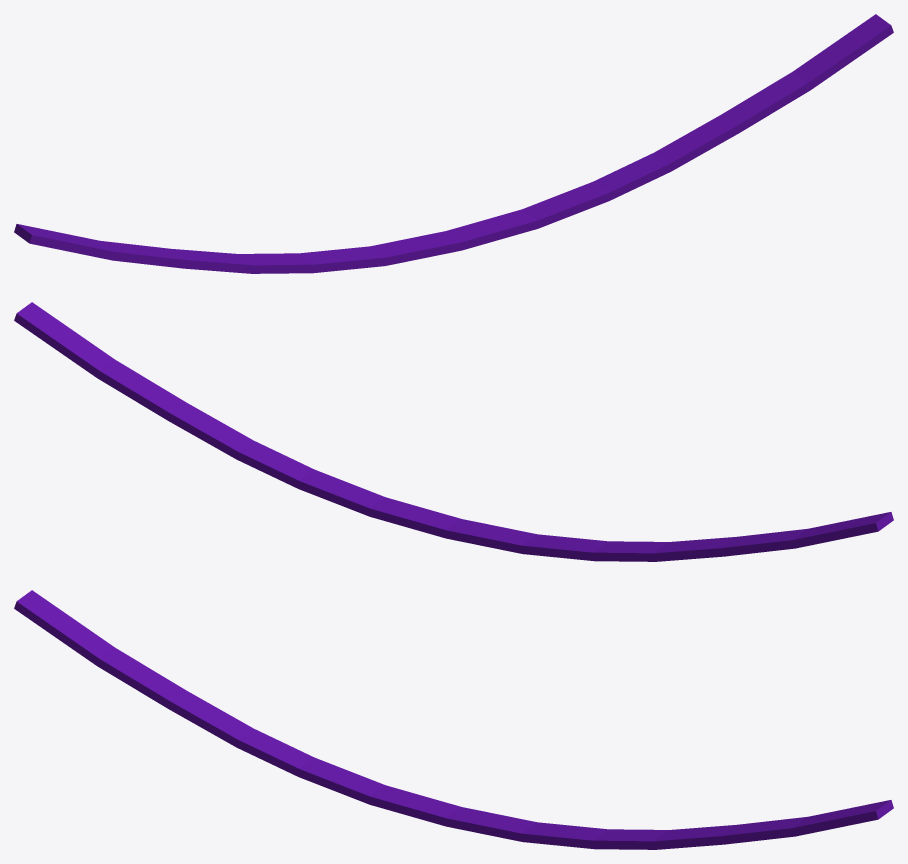
Rendered from Tape_18_chunks.fbx.
3 views of the same model, one above another, from view 1: azimuth 30°, elevation 25°; view 2: azimuth 150°, elevation 25°; view 3: azimuth 330°, elevation 25° (orthographic).
Visible parts, largest first — view 1: Tape_18_0, Tape_18_1, Tape_18_3; view 2: Tape_18_0, Tape_18_1, Tape_18_3; view 3: Tape_18_1, Tape_18_0, Tape_18_3.
Part boxes in pixels (bbox=[...]): Tape_18_0: bbox=[470, 14, 893, 245]; Tape_18_1: bbox=[94, 226, 476, 273]; Tape_18_3: bbox=[14, 224, 119, 256]; Tape_18_0: bbox=[14, 302, 449, 524]; Tape_18_1: bbox=[425, 515, 819, 561]; Tape_18_3: bbox=[795, 512, 893, 543]; Tape_18_1: bbox=[78, 646, 478, 829]; Tape_18_0: bbox=[457, 800, 893, 849]; Tape_18_3: bbox=[14, 590, 113, 661].
Bounding box in the file's own units: 776 × 103 × 24.08.
